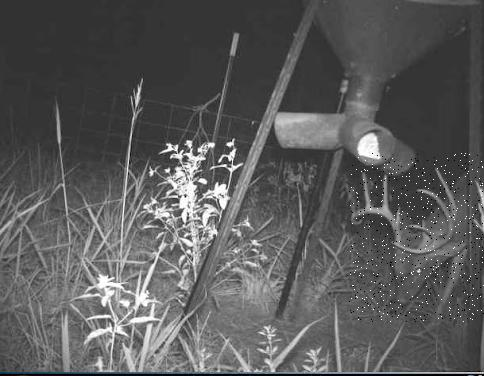Deer: (349, 153, 484, 322)
